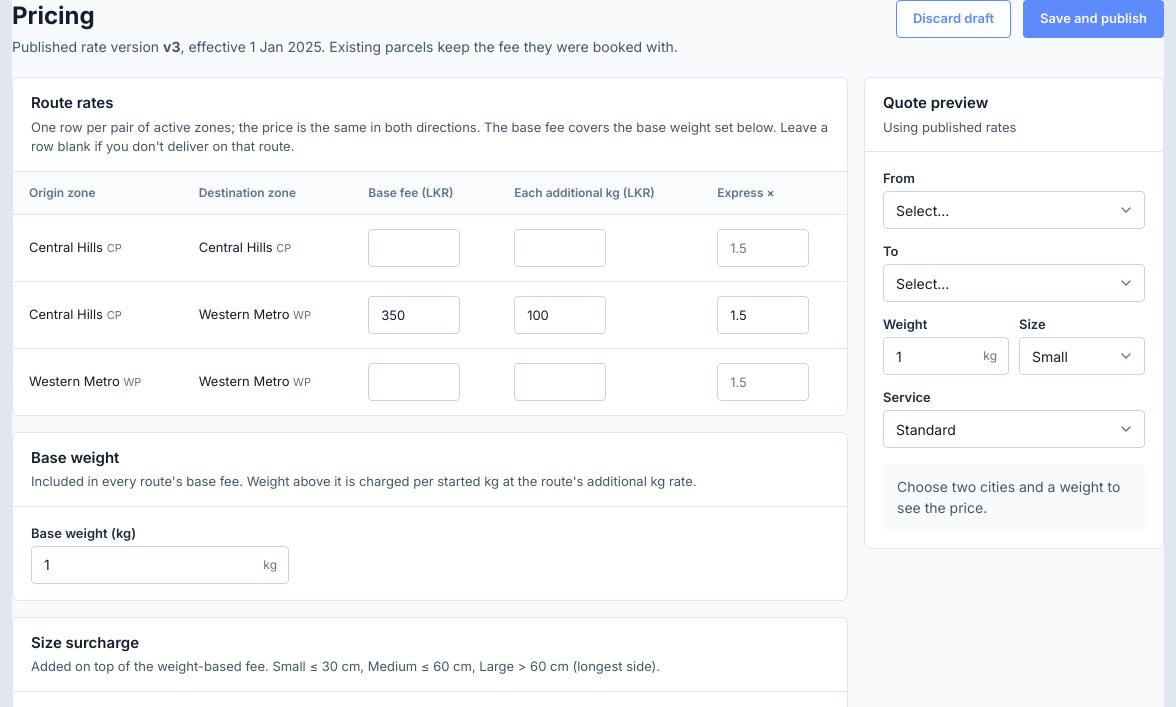
Test: PricingPage › publishes only filled routes, based on the loaded version
Check: the text "v3" is shown, box x1=163 y1=38 x2=180 y2=55
In the number field named "Base fee (LKR) for Western Metro to Western Metro": [414, 382] box x1=368 y1=362 x2=460 y2=400, type "300"
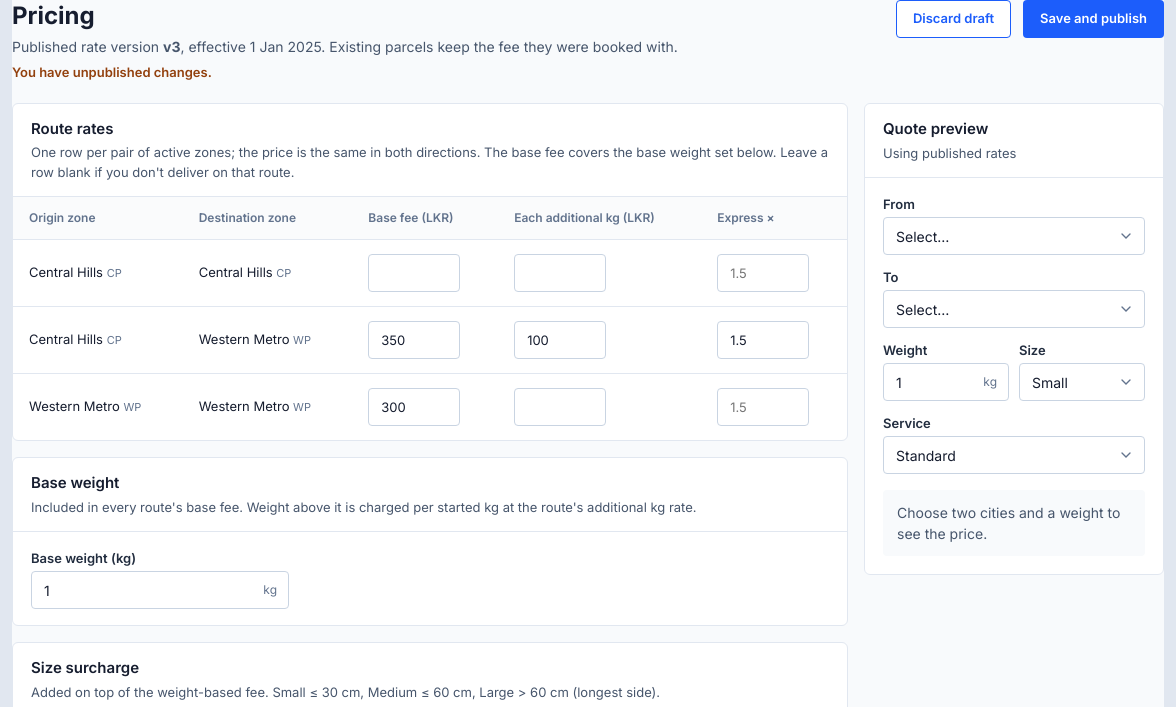
In the number field named "Each additional kg (LKR) for Western Metro to Western Metro": [560, 407] box x1=514 y1=388 x2=606 y2=426, type "80"
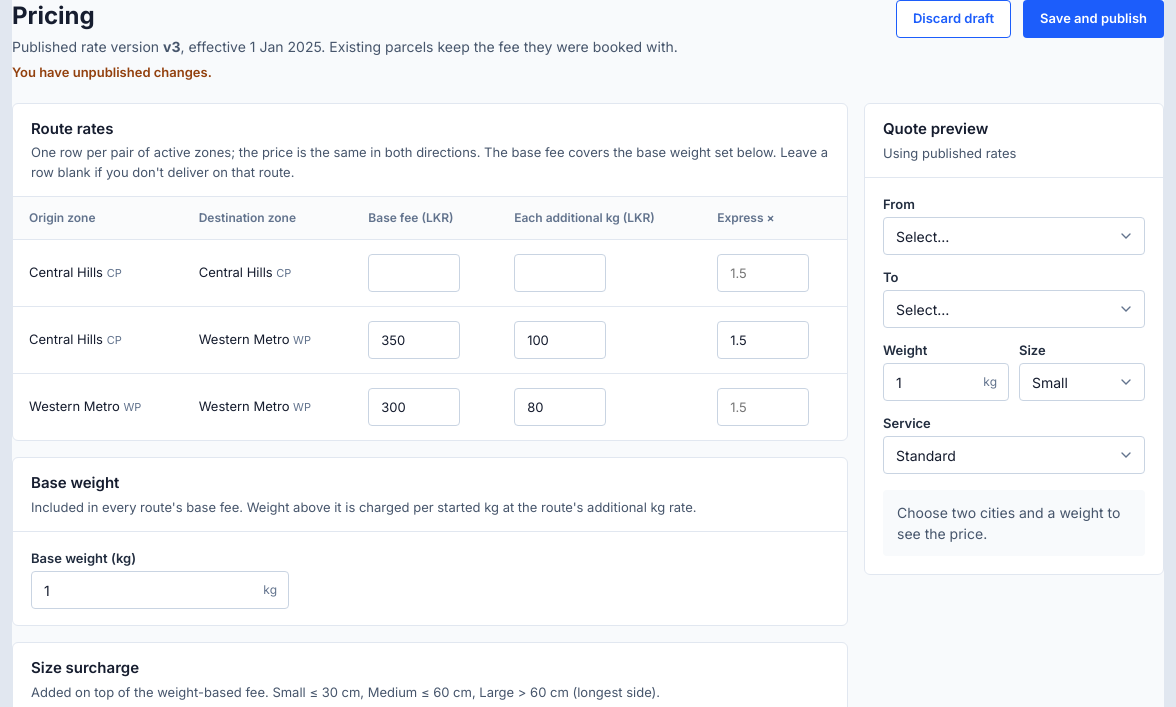
In the 2nd number field with placeholder "1.5": [763, 407] box x1=717 y1=388 x2=809 y2=426, type "1.25"
(page scrolled)
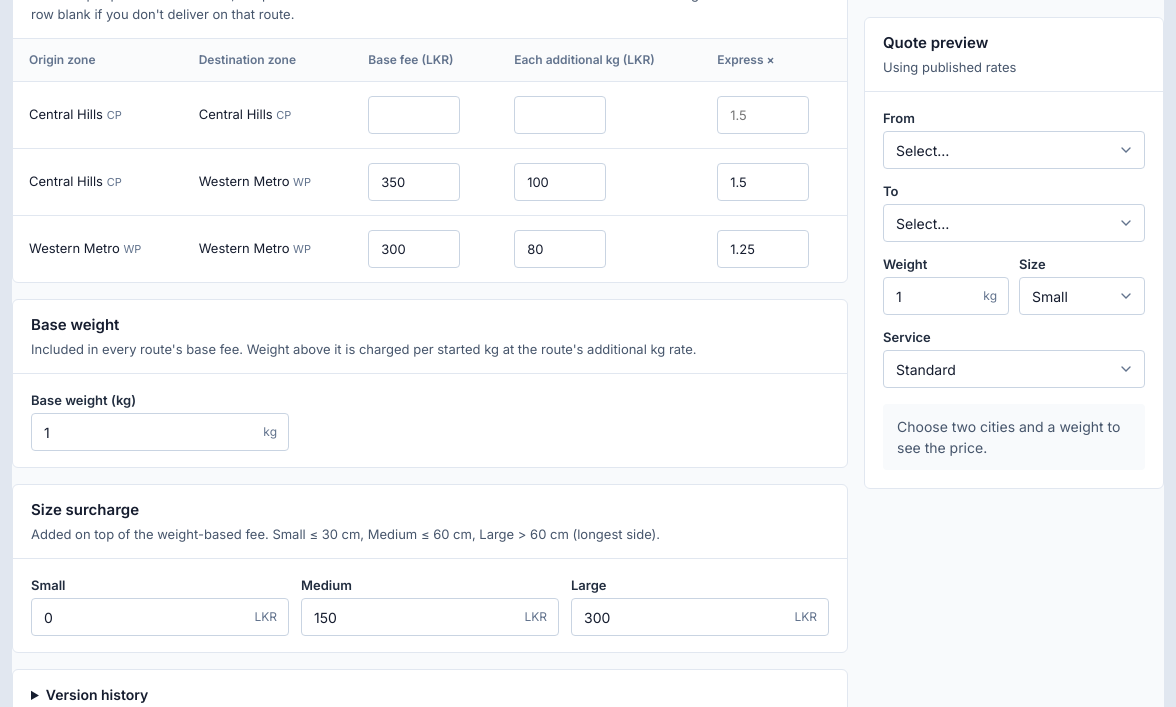
Replace the text in the number field labelled "Large" with "275": [700, 617] box x1=571 y1=598 x2=829 y2=636
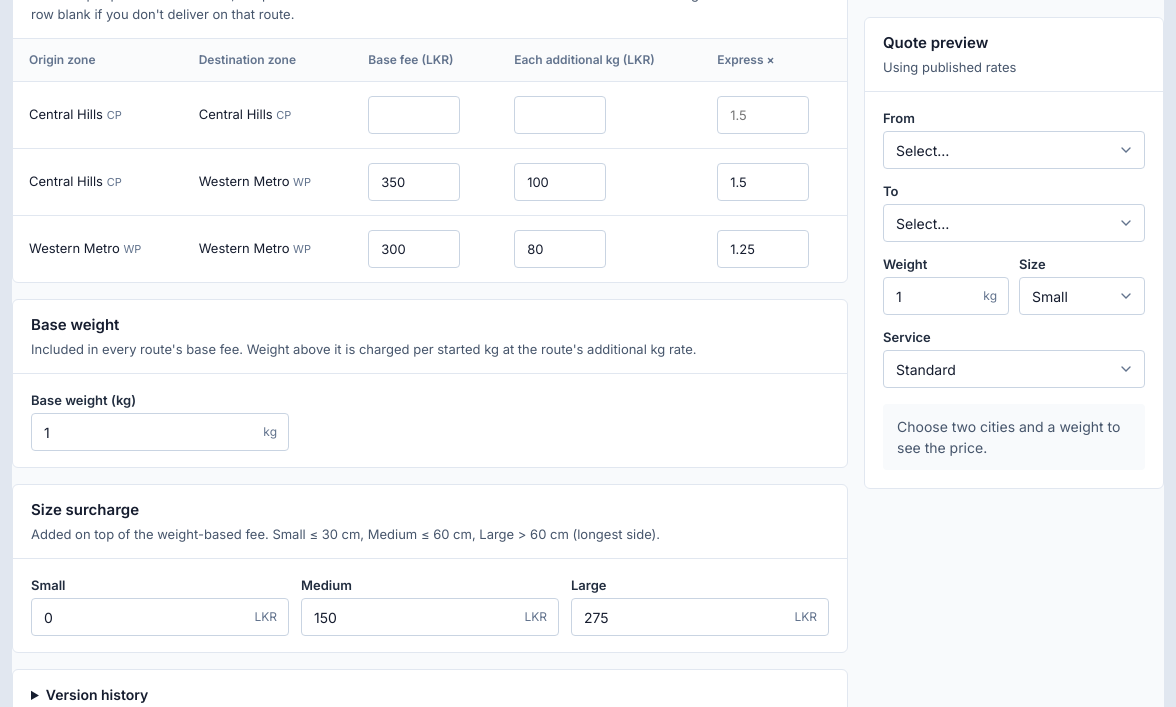
Replace the text in the number field labelled "Base weight (kg)" with "0.5": [160, 432] box x1=31 y1=413 x2=289 y2=451
(page scrolled)
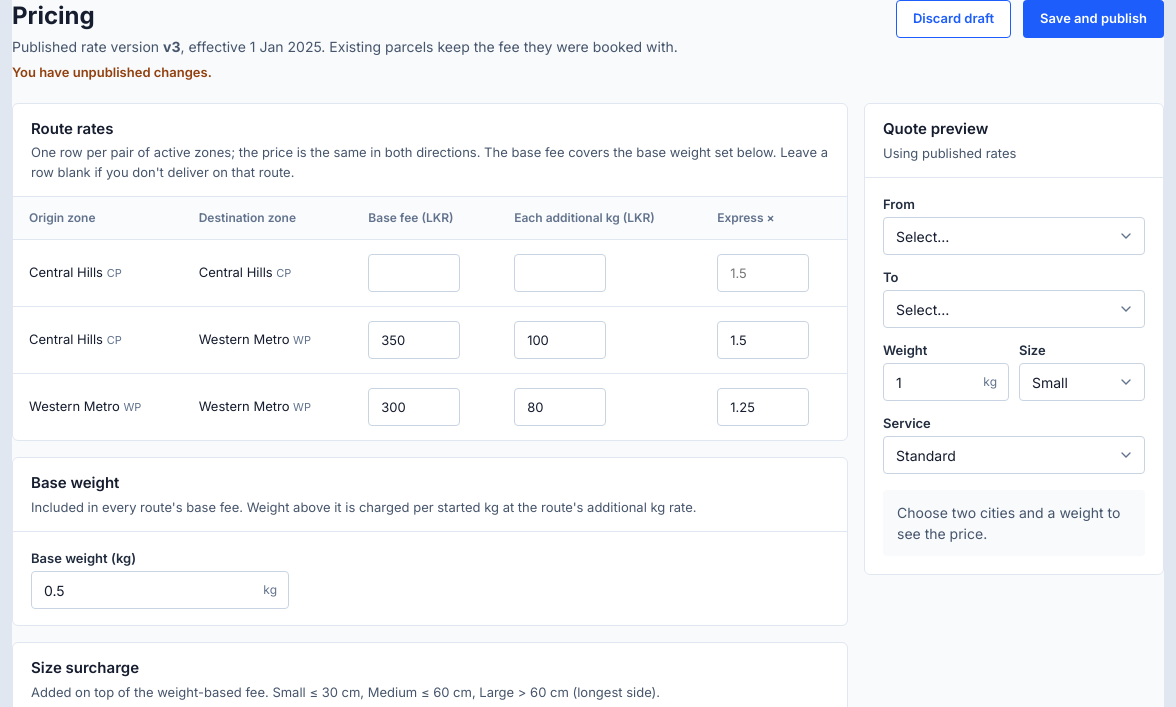
Check: the text "You have unpublished changes." is shown, box x1=12 y1=64 x2=212 y2=80
Click the button "Save and publish": [1094, 19] box x1=1023 y1=0 x2=1164 y2=38
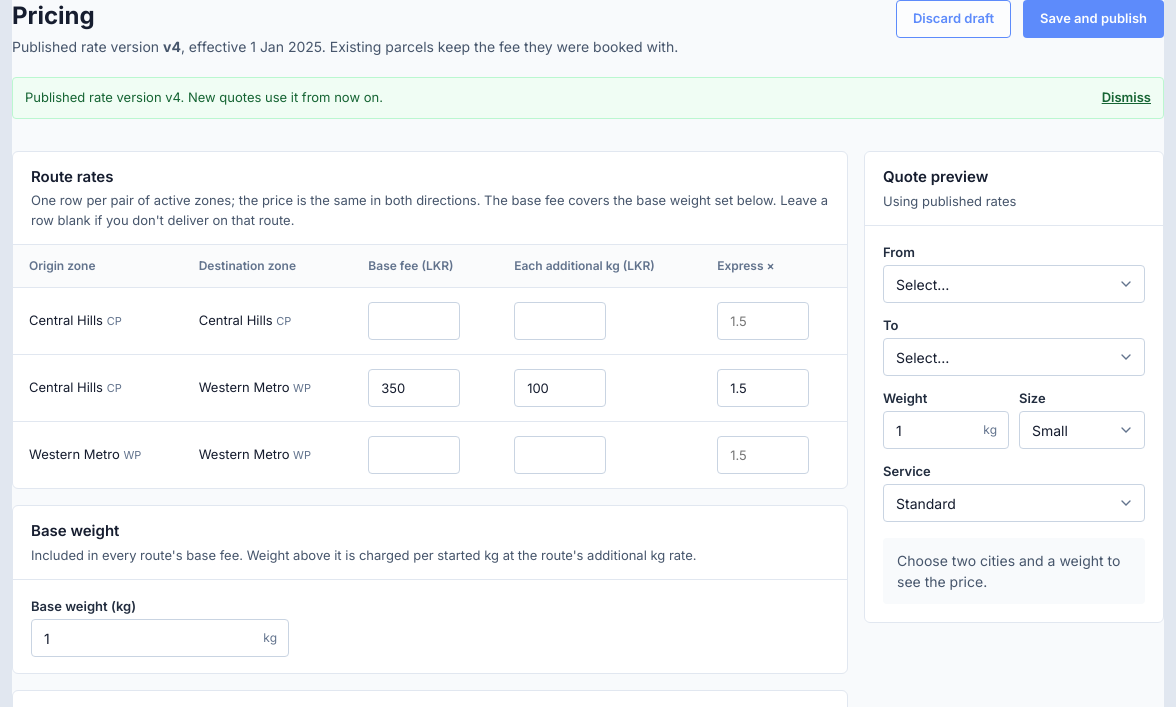
Check: the text "Published rate version v4. New quotes use it from now on." is shown, box x1=25 y1=88 x2=383 y2=108
